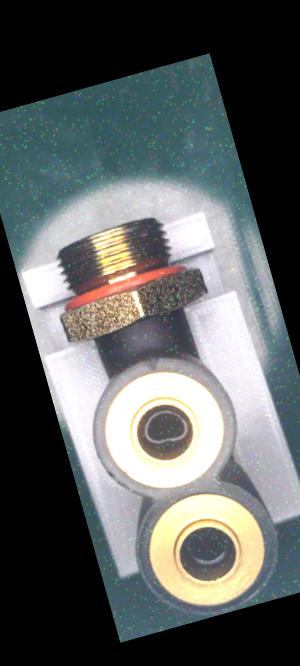bump: (141, 351, 165, 373)
joint line: (133, 322, 148, 352)
off-centered: (134, 400, 199, 456)
